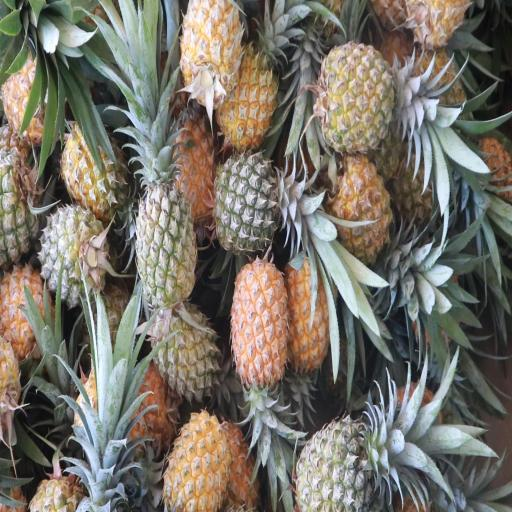------------------------------: (132, 146, 198, 310), (322, 46, 400, 151), (148, 298, 218, 402), (62, 118, 125, 215), (0, 264, 55, 366)
Pineapple - v8 v1: (160, 104, 222, 230), (232, 263, 290, 391), (160, 414, 232, 512), (218, 32, 279, 144), (286, 258, 340, 383), (180, 0, 247, 99), (330, 157, 390, 262)
